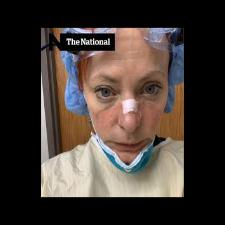mask_weared_incorrect: (89, 71, 166, 169)
